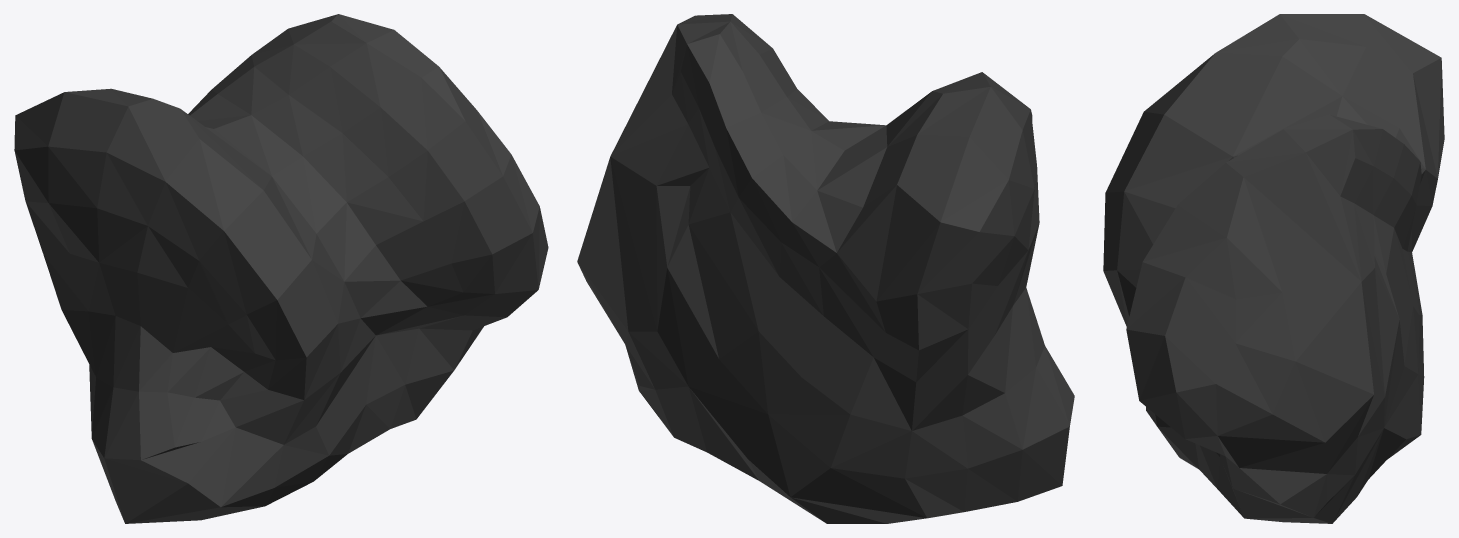
Rendered from LHL_base1.glb.
The picture shows the model from 3 angles, left to right: view 1: azimuth 30°, elevation 25°; view 2: azimuth 150°, elevation 25°; view 3: azimuth 270°, elevation 25°; orthographic projection. The views are drawn at different scales.
Parts seen in each view (by area): view 1: LHL_base1; view 2: LHL_base1; view 3: LHL_base1.
Part boxes in pixels (x1=…): LHL_base1: x1=14, y1=14, x2=548, y2=523; LHL_base1: x1=577, y1=14, x2=1074, y2=523; LHL_base1: x1=1103, y1=14, x2=1444, y2=523.
Size of the model in its own units: 14.91 by 14.06 by 10.34.
Materials: 1 (1 with a texture image).
